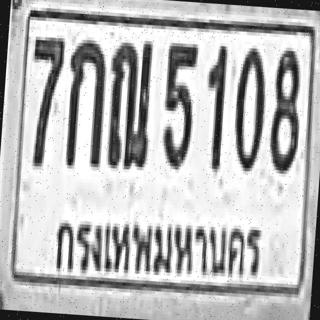A01: (62, 36, 107, 167)
A19: (104, 36, 153, 167)
N00: (230, 44, 266, 168)
N01: (201, 42, 226, 169)
N05: (159, 39, 197, 166)
N07: (25, 33, 63, 164)
N08: (266, 46, 302, 171)
P04: (49, 203, 268, 292)
